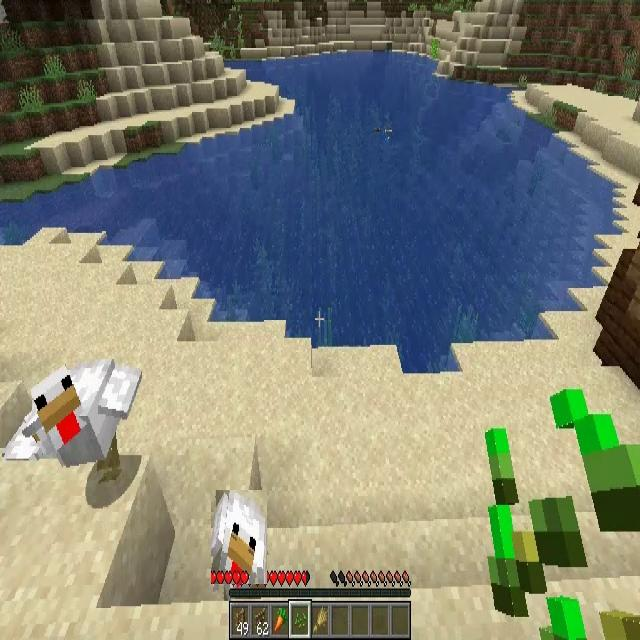duck: (6, 360, 140, 474), (211, 490, 267, 584)
